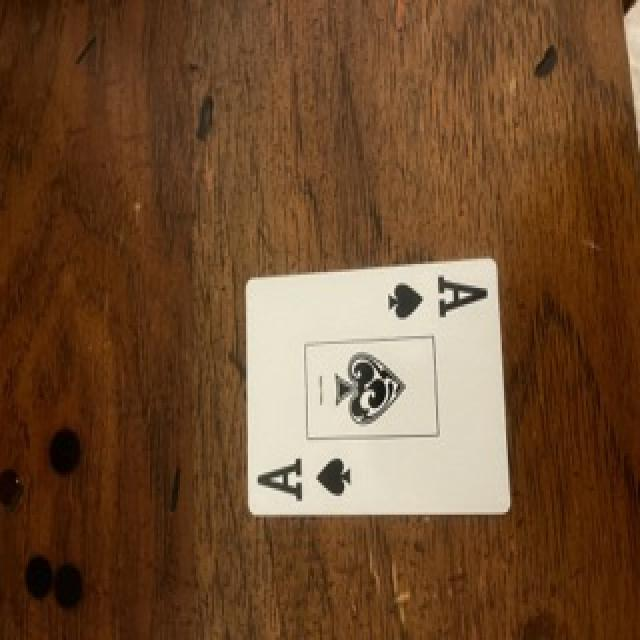Ace of spades: (249, 260, 509, 513)
